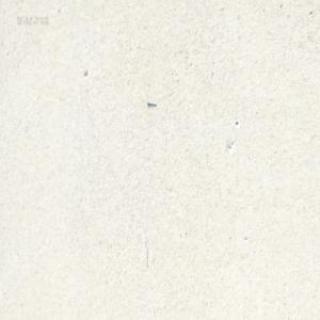Nailtrack_idkeyframe: (146, 99, 156, 105)
